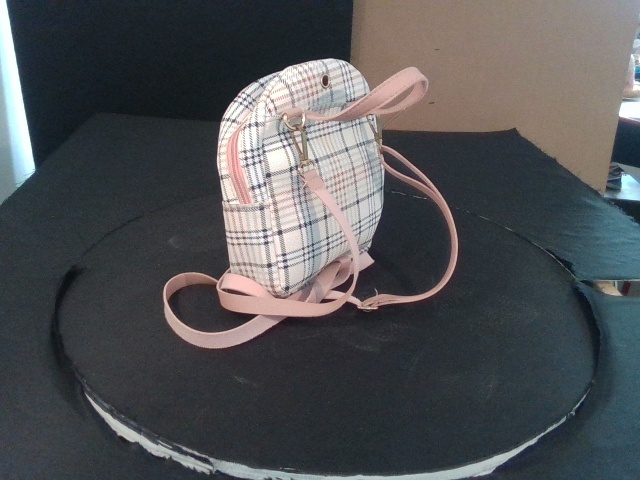bag: (216, 57, 386, 296)
